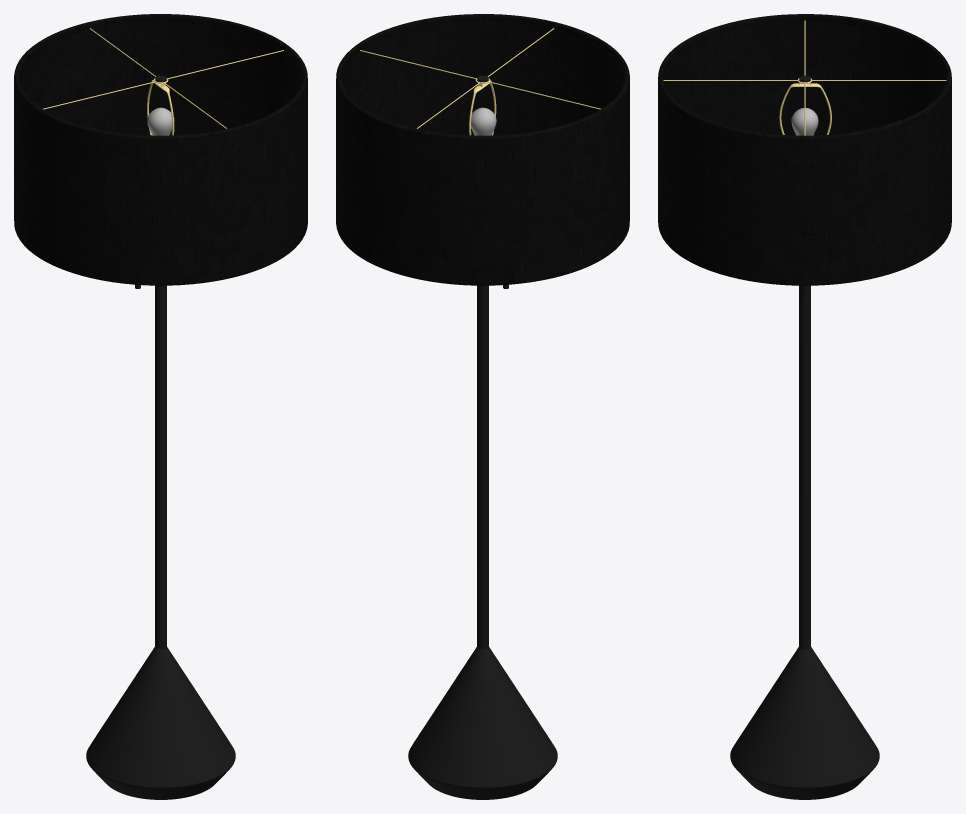
File: abo-B07JNRNTYJ.glb
3 views of the same model, side by side, from view 1: azimuth 30°, elevation 25°; view 2: azimuth 150°, elevation 25°; view 3: azimuth 270°, elevation 25° (orthographic).
Size of the model in its own units: 0.5799 by 1.53 by 0.5799.
Materials: 1 (1 with a texture image).
